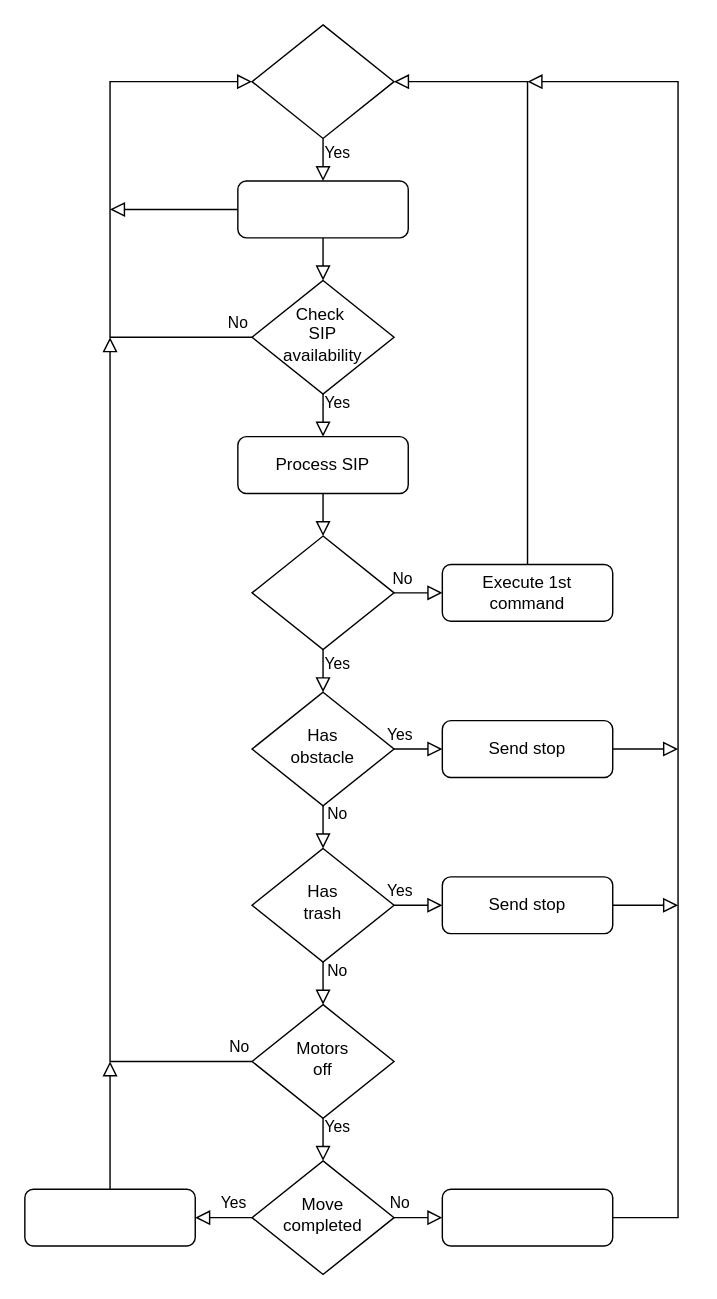
Image size: 717x1299. Some labels were removed from this diagram. The shapes that lost their labels are listed below. From the top down, each one's centre as x and y in pixels, then its label:
the point at 322,80: time > 1,500
the point at 322,209: Send pulse
the point at 322,592: Theres's a valid SIP
the point at 109,1217: Send new command
the point at 527,1217: Resend command
